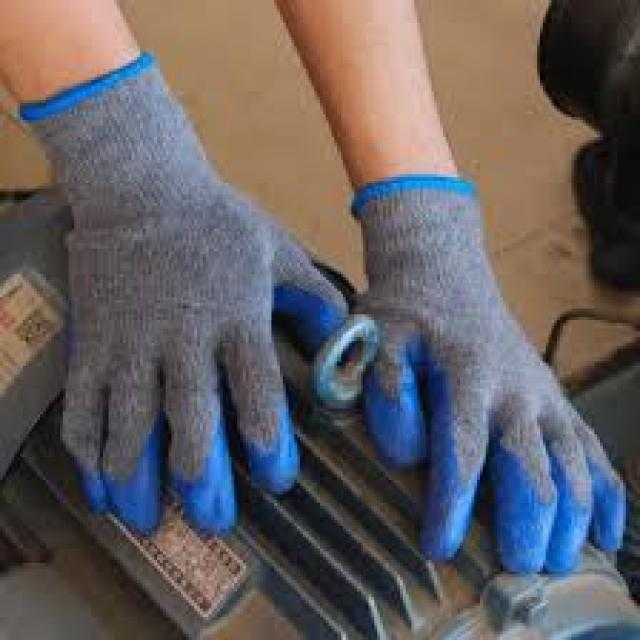Gloves: (21, 52, 348, 531), (354, 175, 624, 572)
